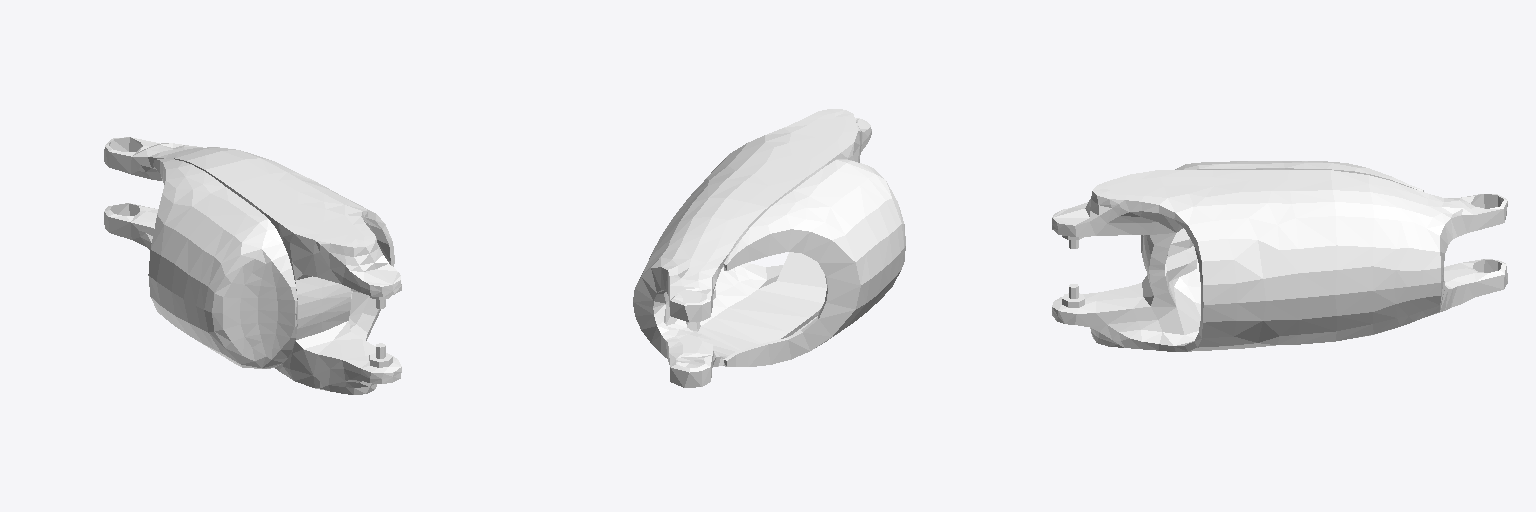
The model's file is r_uleg.obj.
3 views of the same model, side by side, from view 1: azimuth 30°, elevation 25°; view 2: azimuth 150°, elevation 25°; view 3: azimuth 270°, elevation 25° (orthographic).
Visible parts, largest first — view 1: r_uleg_r_ulegMesh; view 2: r_uleg_r_ulegMesh; view 3: r_uleg_r_ulegMesh.
Boxes of the visible parts, box(x1,y1,x2,y2) form: r_uleg_r_ulegMesh: box(104, 137, 401, 394); r_uleg_r_ulegMesh: box(633, 109, 905, 387); r_uleg_r_ulegMesh: box(1052, 161, 1507, 351).
Size of the model in its own units: 0.2107 by 0.1481 by 0.4127.